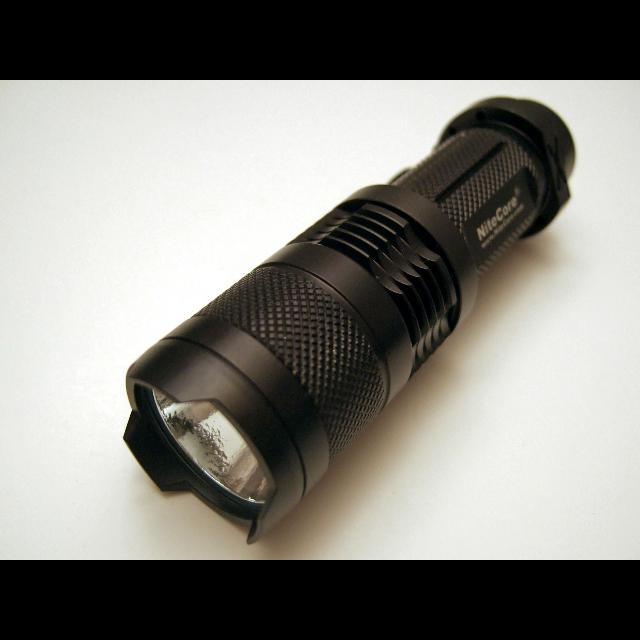Flashlight: (114, 90, 588, 552)
